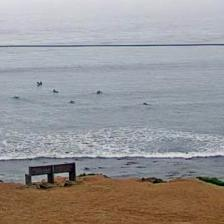surfer: (36, 80, 42, 86), (53, 89, 59, 94), (69, 100, 75, 104), (96, 90, 101, 94), (14, 96, 20, 99), (143, 103, 148, 105)
